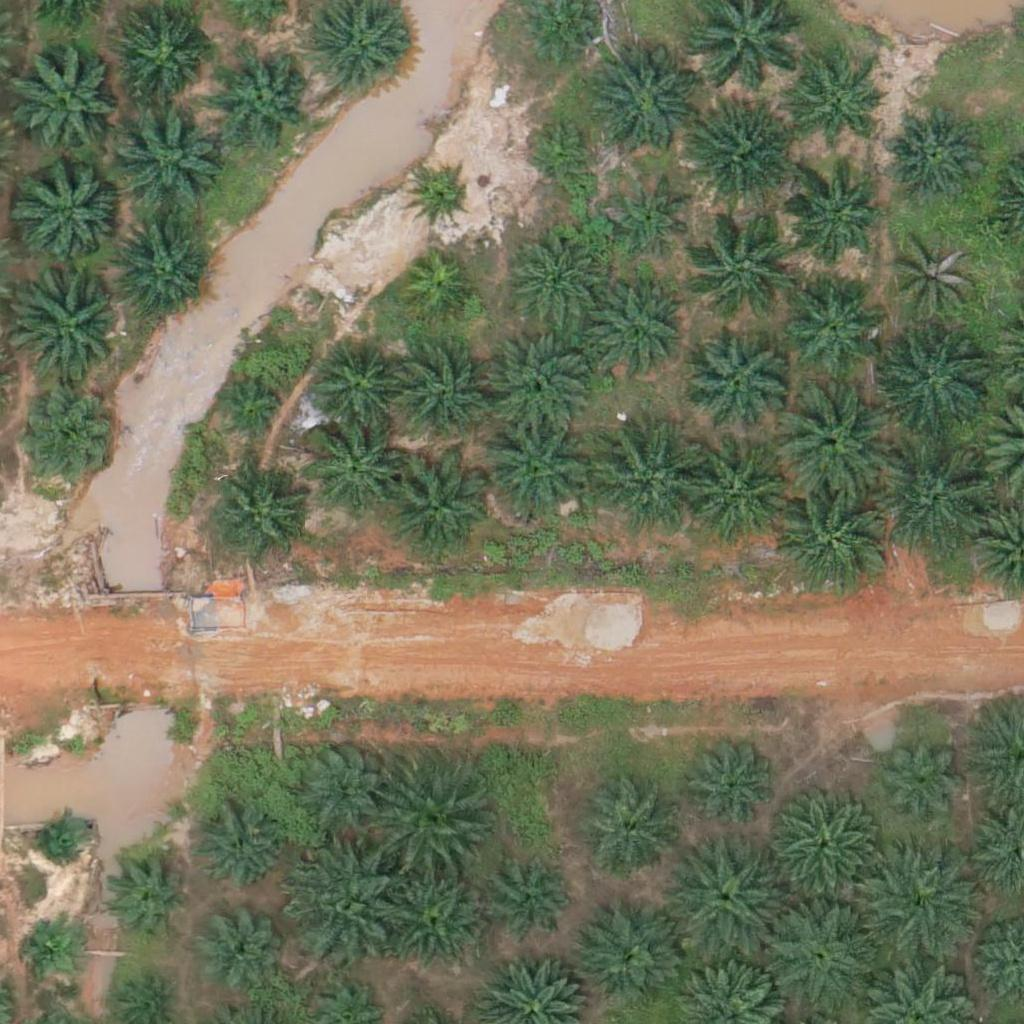Kelapa_Sawit: (865, 850, 978, 963), (763, 791, 876, 904), (777, 485, 890, 598), (584, 48, 697, 161), (482, 326, 595, 439), (479, 414, 592, 527), (381, 453, 494, 566), (110, 99, 223, 212), (11, 43, 124, 156), (15, 154, 128, 267), (762, 897, 874, 1011), (689, 206, 801, 320), (587, 423, 699, 537), (675, 840, 787, 953), (377, 769, 489, 882), (287, 848, 399, 961), (882, 444, 994, 557), (878, 323, 990, 436), (776, 385, 888, 498), (677, 442, 789, 555), (680, 103, 792, 216), (14, 266, 126, 379), (681, 734, 781, 835), (576, 907, 676, 1008), (383, 867, 483, 968), (289, 734, 389, 835), (782, 169, 882, 270), (684, 331, 784, 432), (584, 282, 684, 383), (392, 348, 492, 449), (307, 339, 407, 440), (109, 220, 209, 321), (209, 465, 309, 566), (17, 393, 117, 494), (580, 784, 680, 884), (883, 104, 983, 204), (782, 273, 882, 373), (507, 230, 607, 330), (302, 419, 402, 519), (215, 50, 315, 150), (607, 176, 695, 264), (120, 17, 208, 105), (195, 805, 282, 894), (882, 737, 969, 825), (489, 858, 576, 946), (195, 904, 282, 992), (105, 852, 192, 940), (892, 235, 979, 323), (794, 65, 881, 153), (524, 115, 599, 190), (400, 253, 475, 328), (215, 377, 290, 452), (409, 166, 472, 229), (27, 921, 77, 972), (34, 811, 84, 861)
